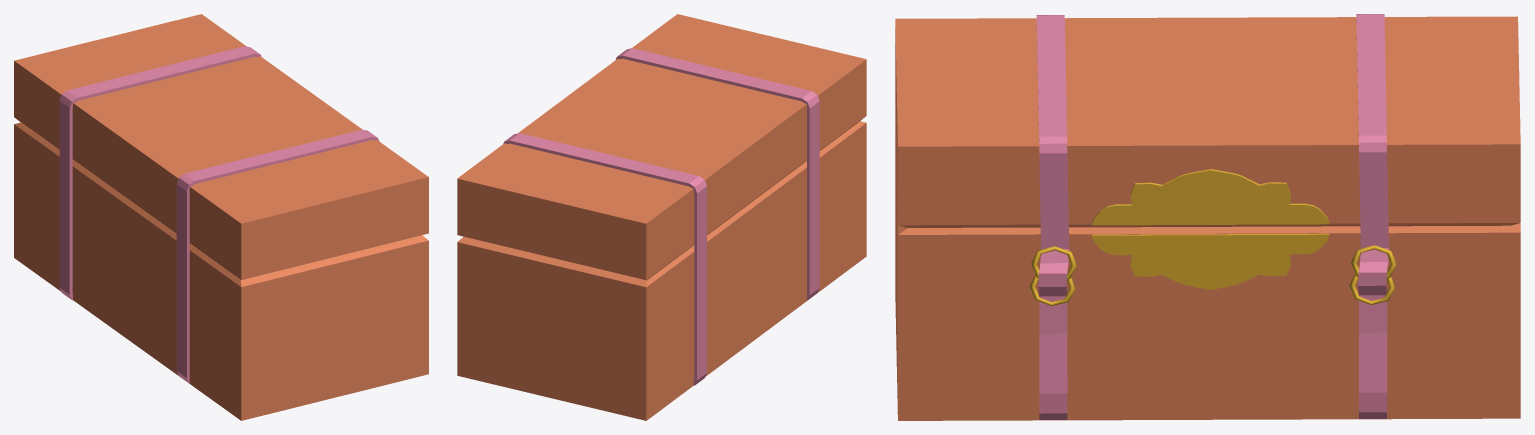
File: chest.fbx
3 renders of one model, left to right at view 1: azimuth 30°, elevation 25°; view 2: azimuth 150°, elevation 25°; view 3: azimuth 270°, elevation 25°, orthographic. The views are drawn at different scales.
Parts seen in each view (by area): view 1: Cube.001, Cube.003, Cube.002; view 2: Cube.001, Cube.003, Cube.002; view 3: Cube.001, Plane.010, Cube.002, Cube.003.
Boxes of the visible parts, left/top/right/bottom form: Cube.001: left=14, top=14, right=428, bottom=420; Cube.003: left=59, top=46, right=261, bottom=300; Cube.002: left=176, top=129, right=379, bottom=383; Cube.001: left=457, top=14, right=866, bottom=420; Cube.003: left=503, top=133, right=706, bottom=385; Cube.002: left=615, top=48, right=819, bottom=300; Cube.001: left=895, top=16, right=1520, bottom=420; Plane.010: left=1092, top=169, right=1329, bottom=289; Cube.002: left=1036, top=15, right=1069, bottom=419; Cube.003: left=1356, top=14, right=1388, bottom=418.
Bounding box in the file's own units: 218 × 206 × 413.
